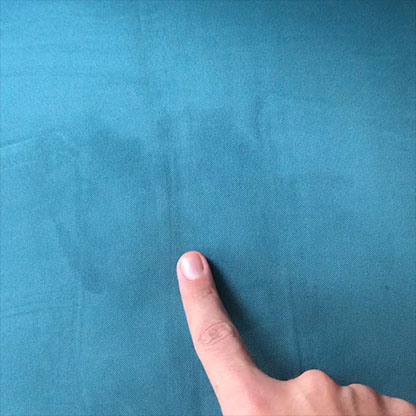fingertip: (166, 243, 221, 291)
